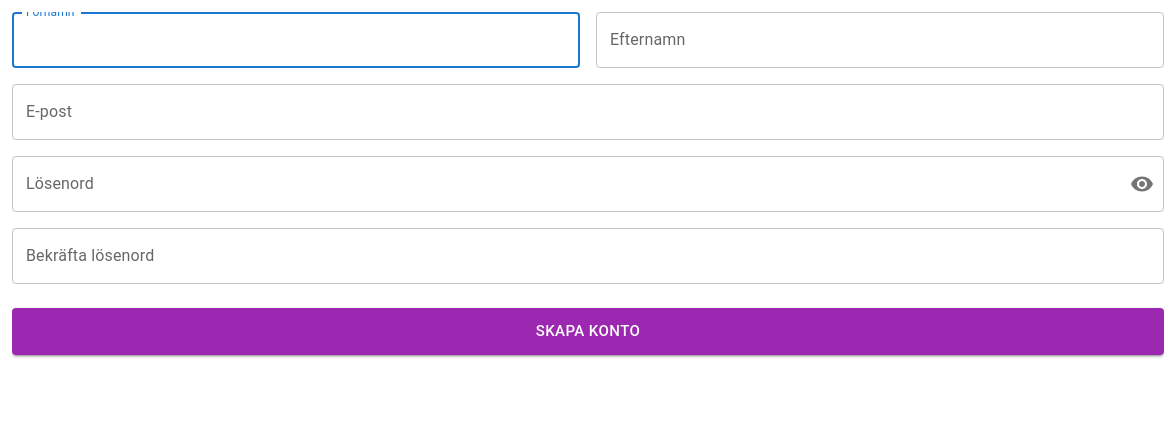
it: RegisterForm › should show validation error for password without uppercase
Type "password123!" into the password field labelled "Lösenord". click: (563, 184)
box: [12,156,1114,212]
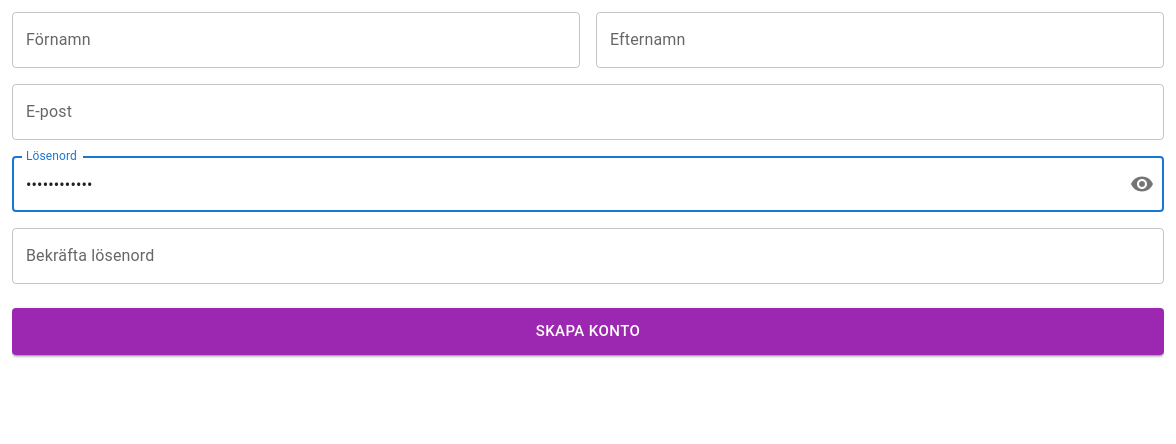
Click the button "Skapa konto". click: (588, 332)
box: [12,308,1164,355]
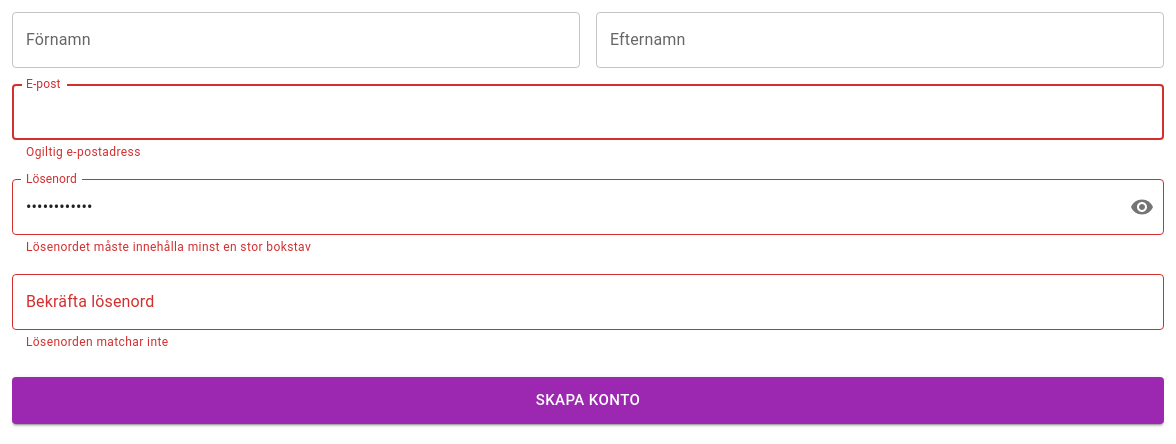
Check: the text "Lösenordet måste innehålla minst en stor bokstav" is shown, box [26,240,311,254]
